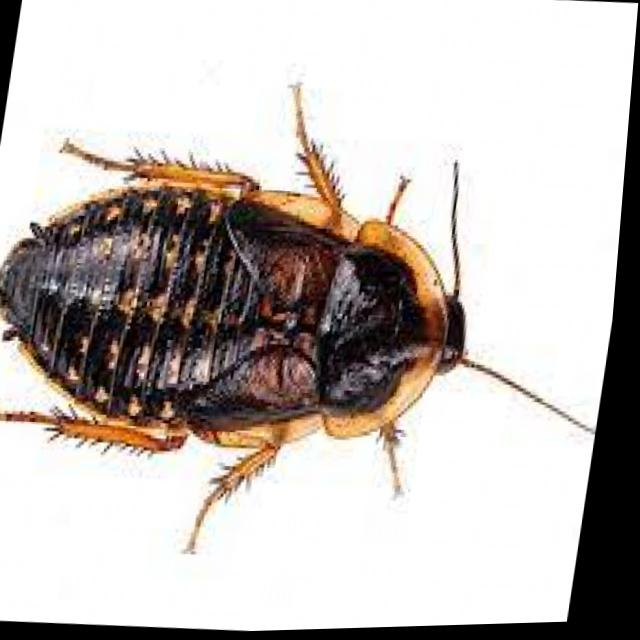Cockroach: (0, 43, 636, 613)
